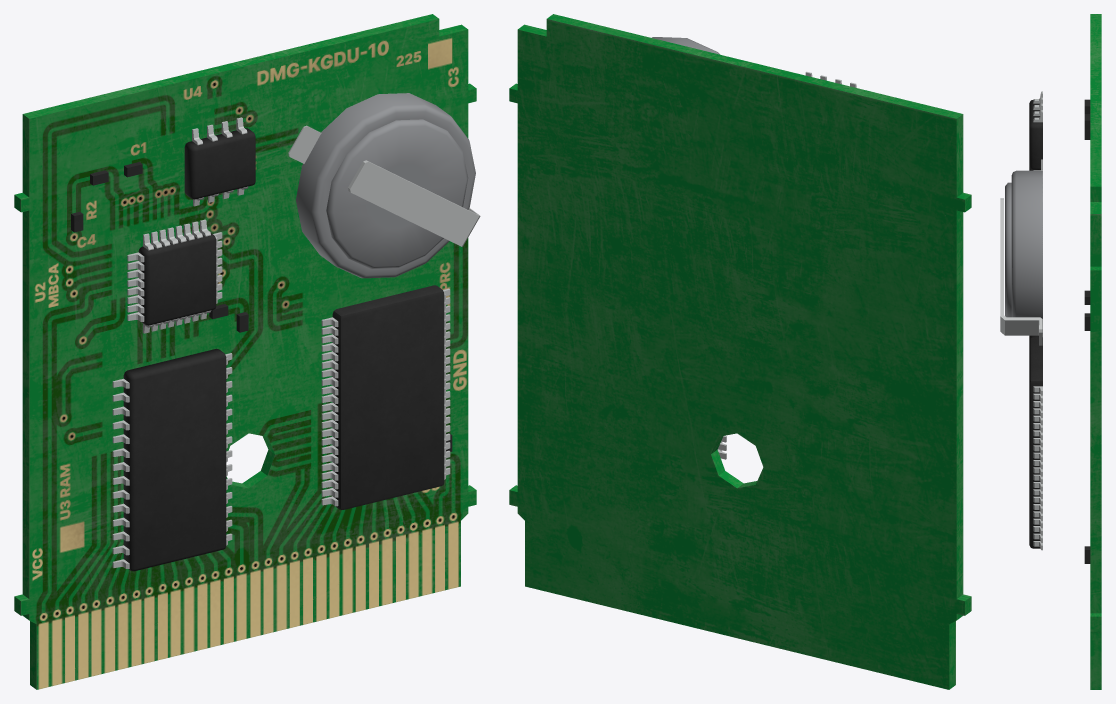
The model's file is circuit.fbx.
3 renders of one model, left to right at view 1: azimuth 30°, elevation 25°; view 2: azimuth 150°, elevation 25°; view 3: azimuth 270°, elevation 25°, orthographic. The views are drawn at different scales.
Parts seen in each view (by area): view 1: board, battery, chipset1, chipset4, chipset3, chipset2; view 2: board; view 3: board, battery, chipset1, chipset2.
Boxes of the visible parts, x1=… form: board: x1=14, y1=14, x2=476, y2=689; battery: x1=288, y1=93, x2=480, y2=278; chipset1: x1=321, y1=285, x2=450, y2=509; chipset4: x1=112, y1=348, x2=232, y2=571; chipset3: x1=127, y1=219, x2=222, y2=333; chipset2: x1=184, y1=117, x2=255, y2=206; board: x1=509, y1=14, x2=971, y2=689; board: x1=1084, y1=14, x2=1101, y2=689; battery: x1=1000, y1=159, x2=1042, y2=345; chipset1: x1=1029, y1=337, x2=1042, y2=550; chipset2: x1=1029, y1=91, x2=1042, y2=170.
Size of the model in its own units: 481 by 578 by 108.
